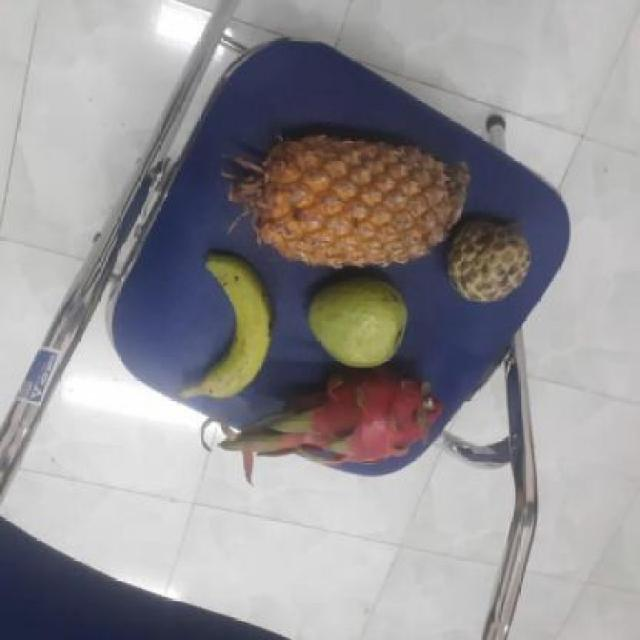banana: (190, 258, 276, 400)
dragon fruit: (278, 363, 433, 468)
guava: (304, 276, 411, 369)
pineapple: (244, 136, 464, 267)
sugar apple: (440, 219, 531, 303)
